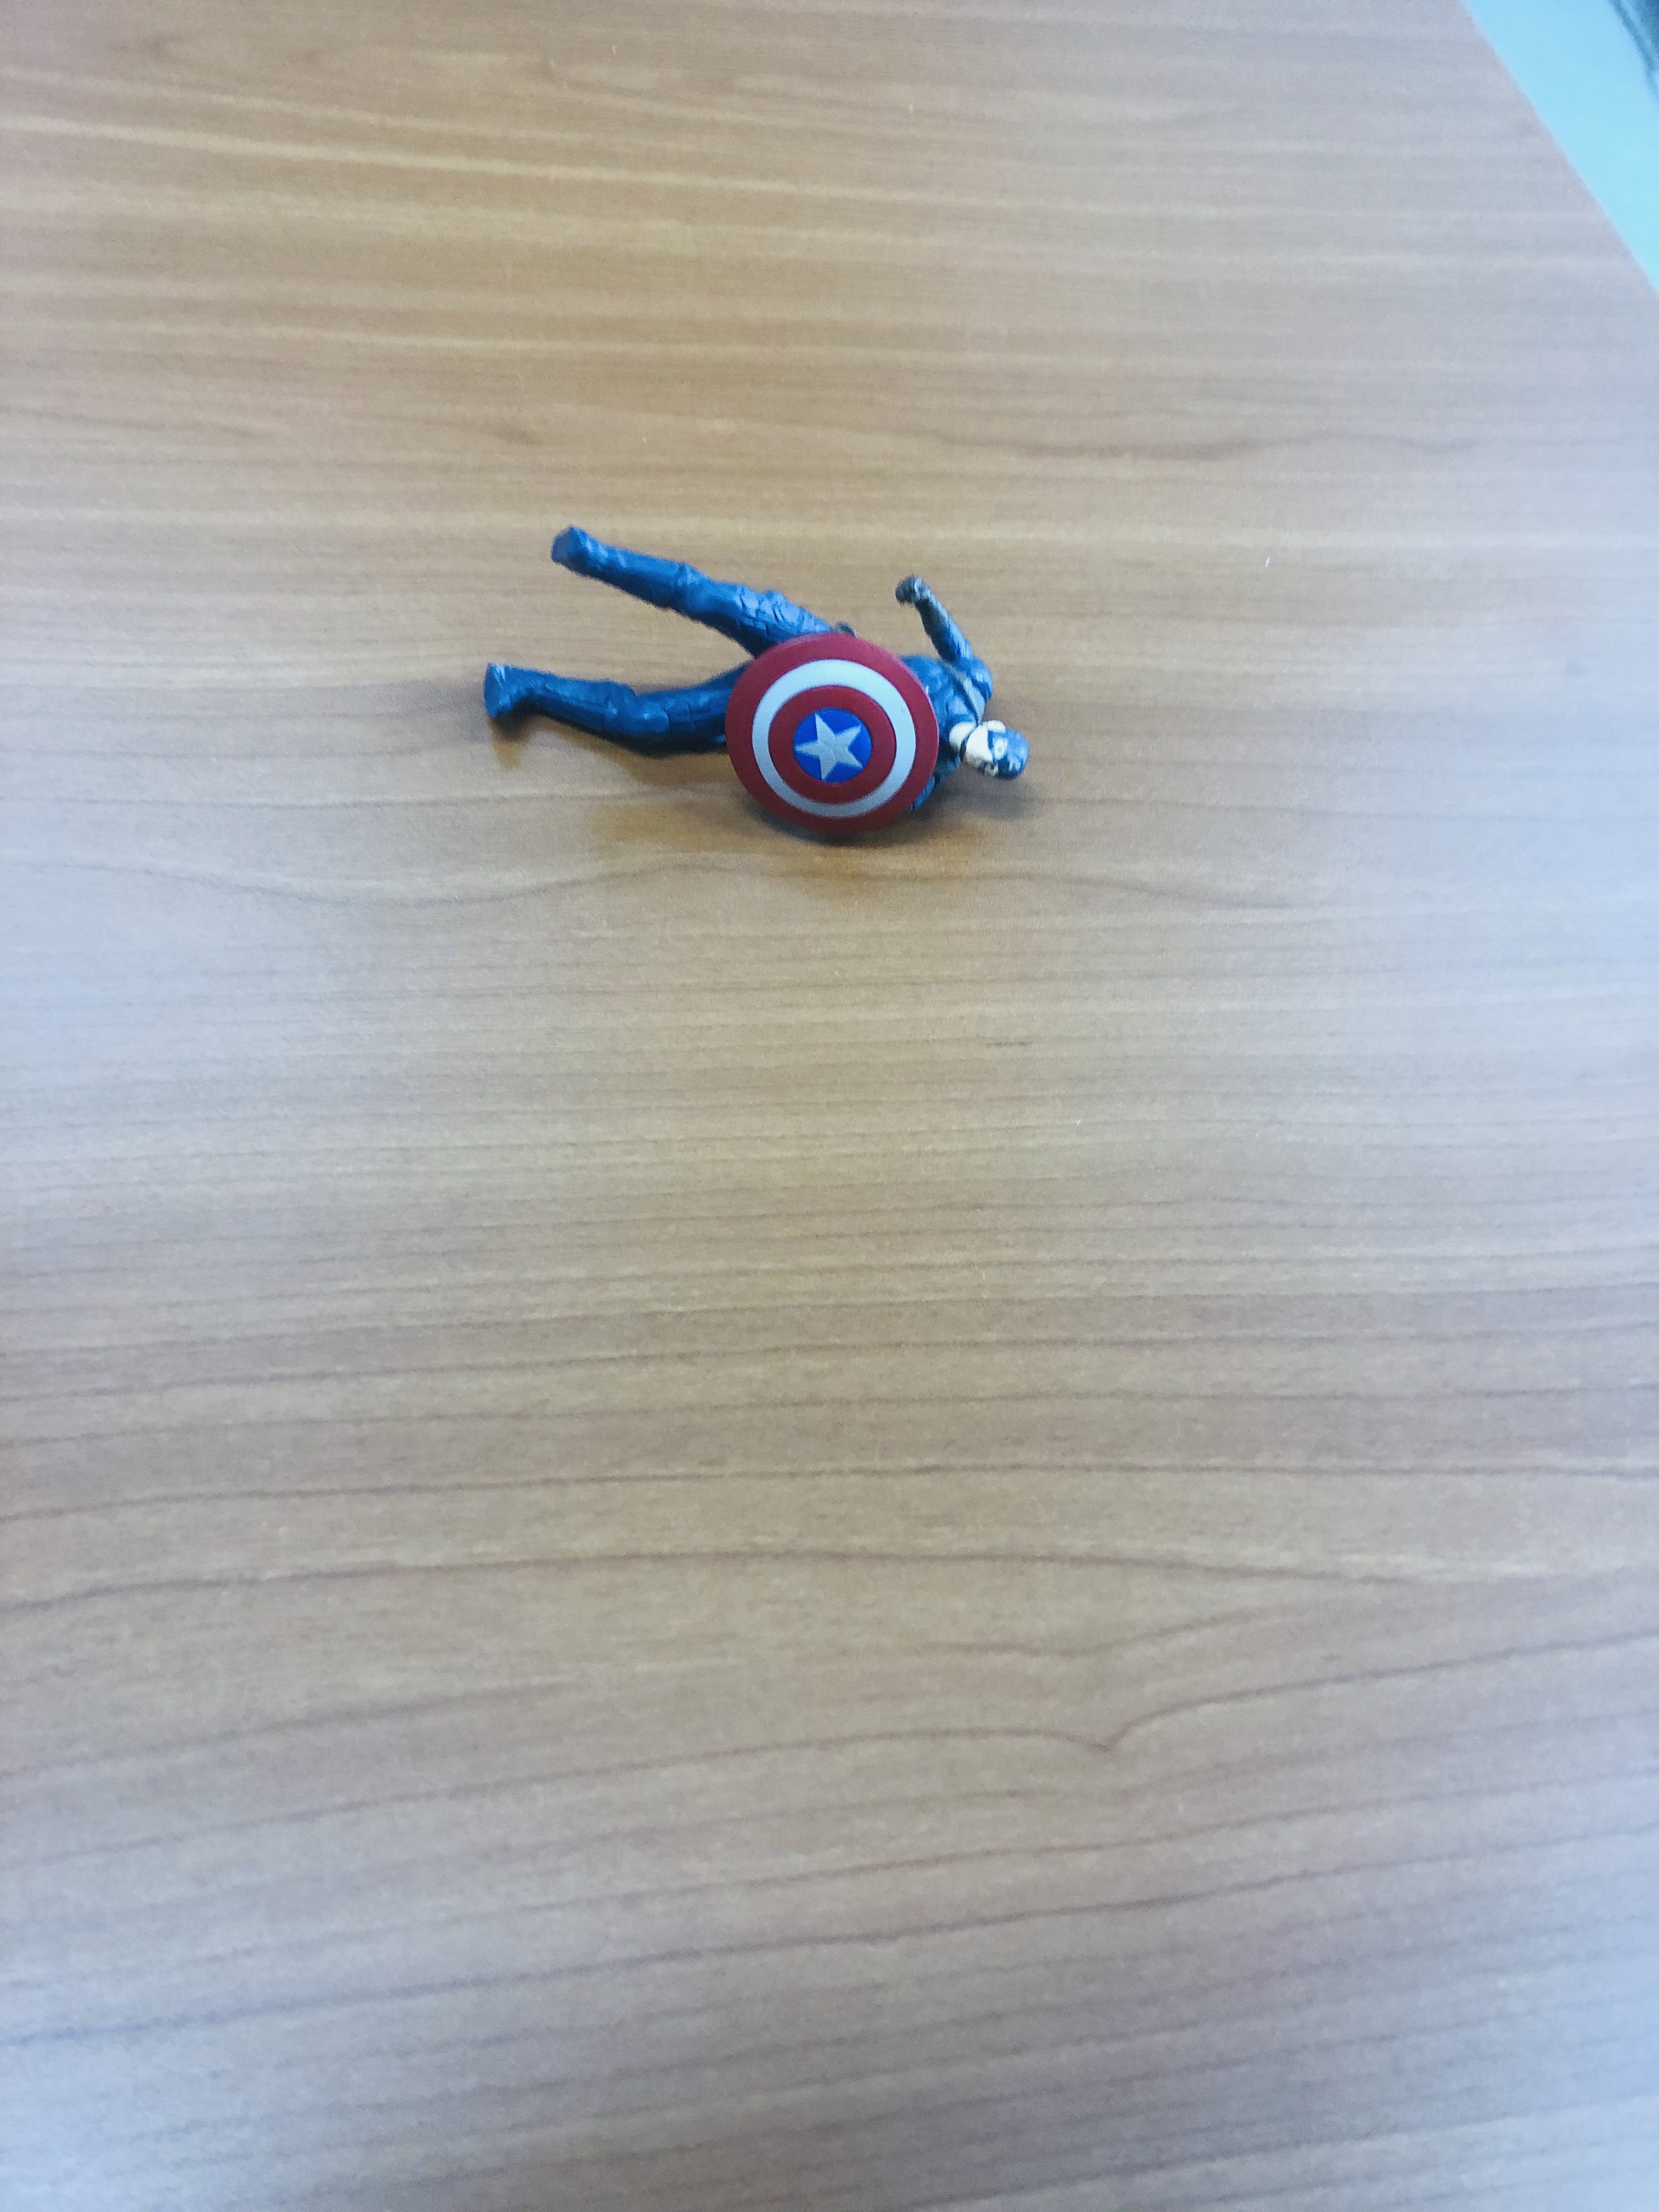people: (480, 523, 1041, 849)
